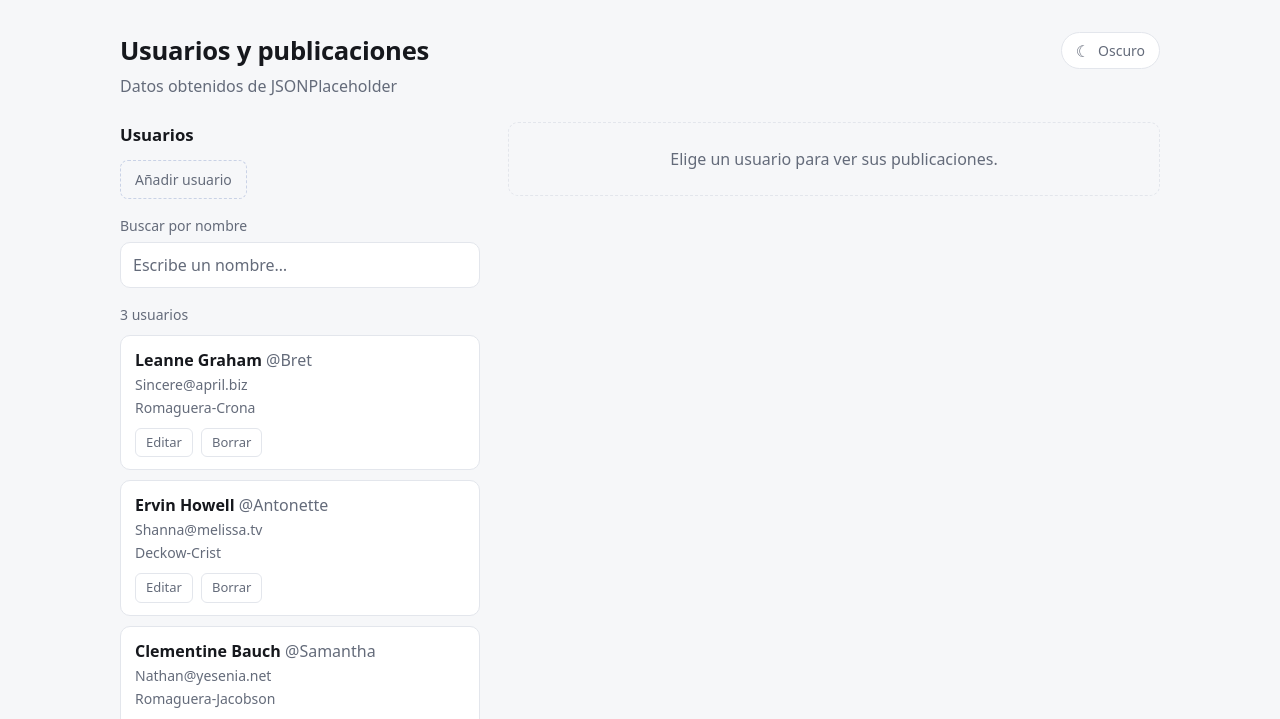
Test case: App › añade a la lista la publicación creada en el formulario
Click the button with aria-label "ver publicaciones de leanne graham". click: {"x": 198, "y": 360}
box: [135, 348, 465, 418]
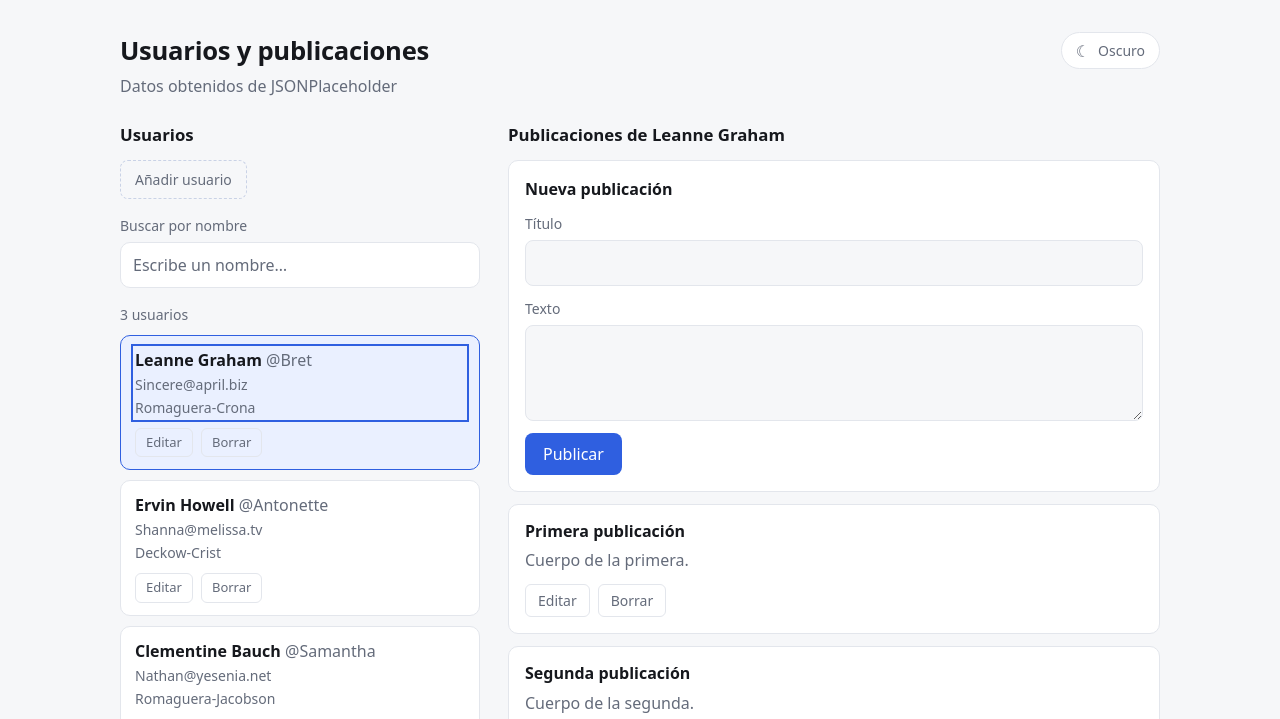
Expected: the heading "Primera publicación" is shown, [525, 520, 685, 542]
Type "Mi publicación nueva" into the field labelled "Título". click: {"x": 834, "y": 263}
box: [525, 240, 1143, 286]
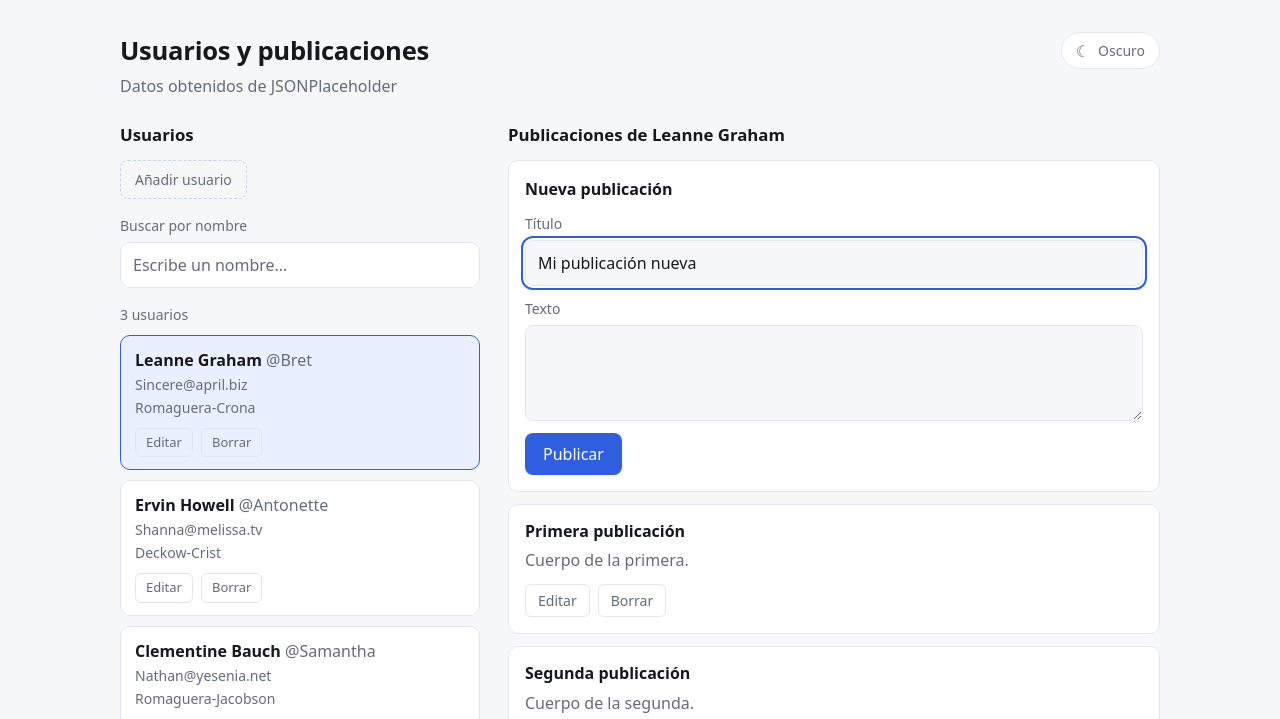
Type "El cuerpo de la publicación." into the text box labelled "Texto". click: {"x": 834, "y": 373}
box: [525, 325, 1143, 421]
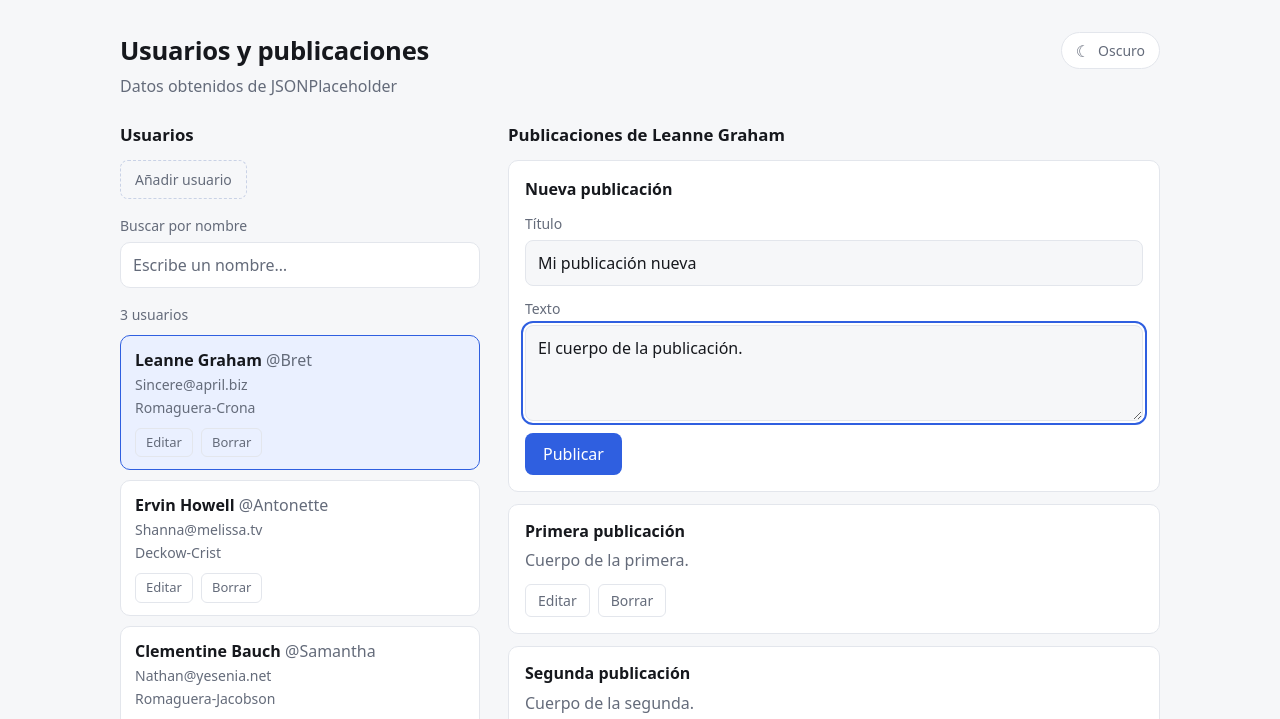
Click the button "Publicar". click: {"x": 573, "y": 454}
box: [525, 433, 622, 475]
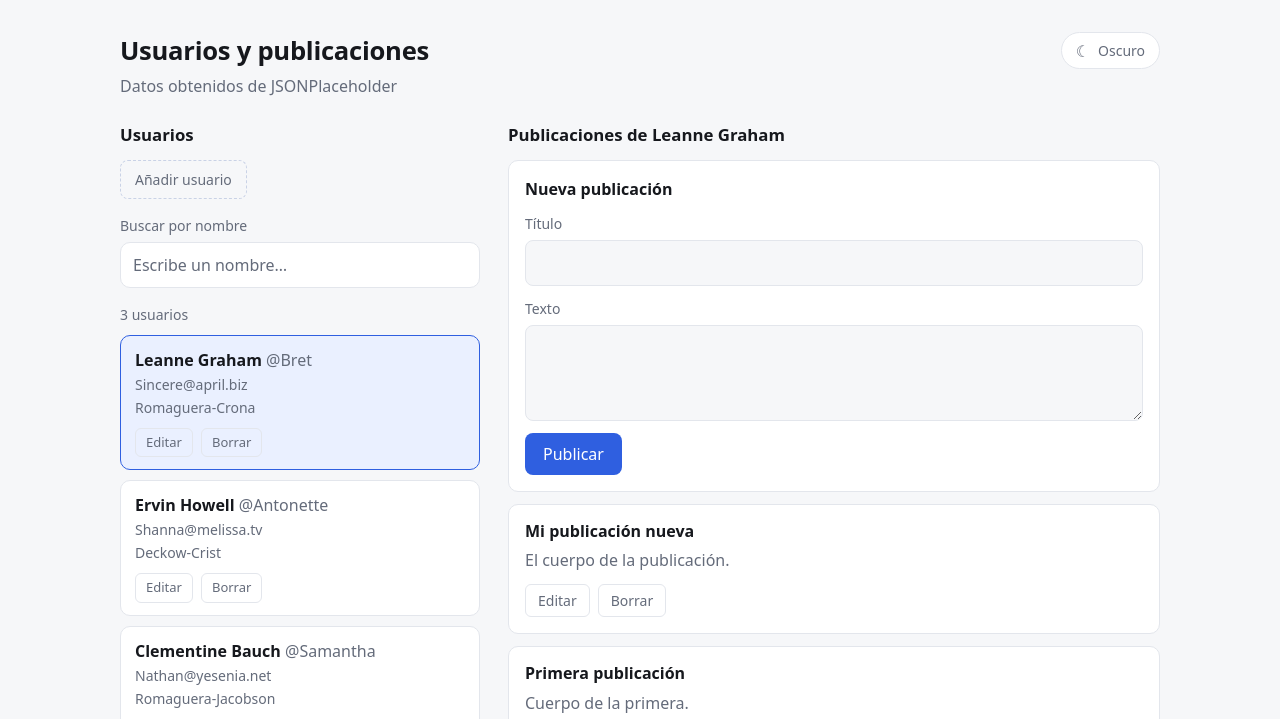
Expected: the heading "Mi publicación nueva" is shown, [525, 520, 694, 542]
